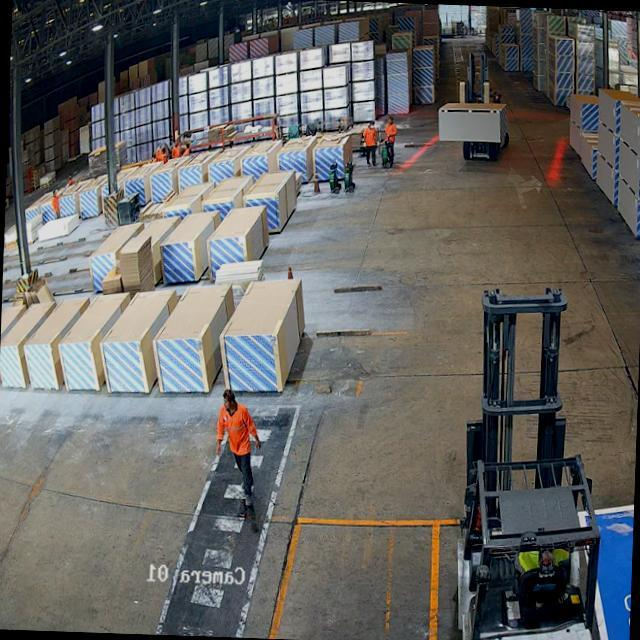forklift: (436, 278, 621, 640)
person: (210, 385, 269, 536), (362, 119, 377, 166), (383, 114, 398, 160)
